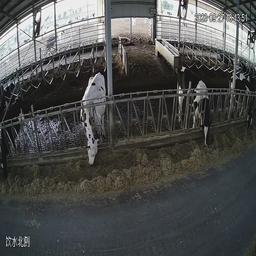cow: (175, 63, 213, 155), (80, 66, 105, 173), (0, 98, 25, 183), (229, 72, 254, 137)
